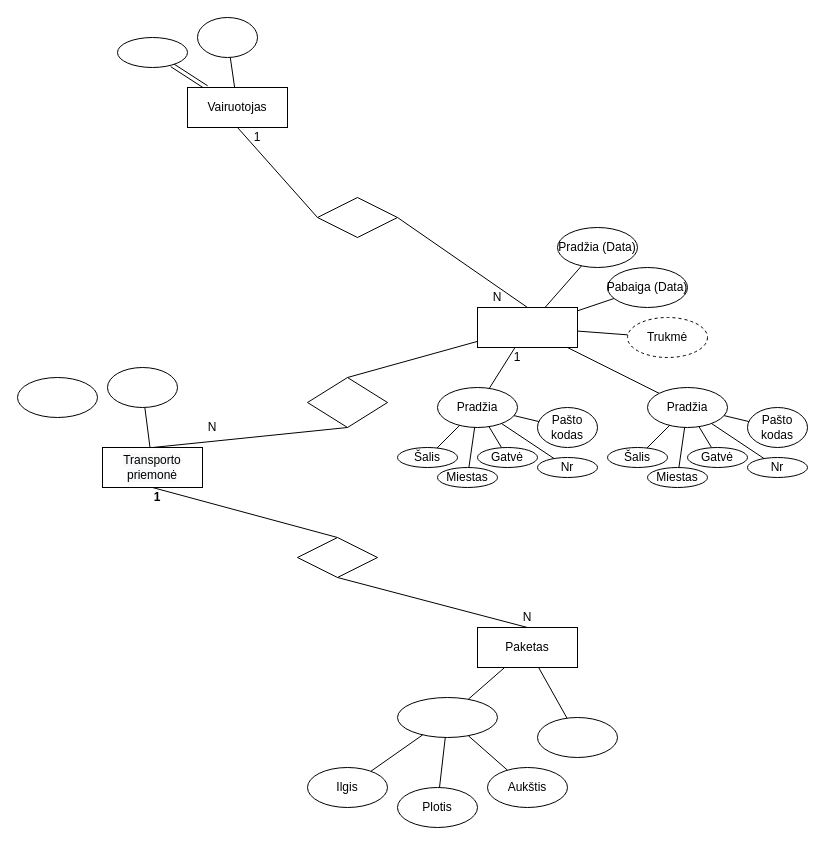
Image size: 825x845. Some labels were removed from this diagram. The centre of each missing label's shape, as x and y in pixels:
"AK" goes at [227,37].
"Dalyvauja" goes at [357,217].
"Kelionė" goes at [527,327].
"Matmenys" goes at [447,717].
"Naudojama" goes at [347,402].
"Re" goes at [57,397].
"Svoris" goes at [577,737].
"Teisės" goes at [152,52].
"Vežami" goes at [337,557].
"VIN" goes at [142,387].
